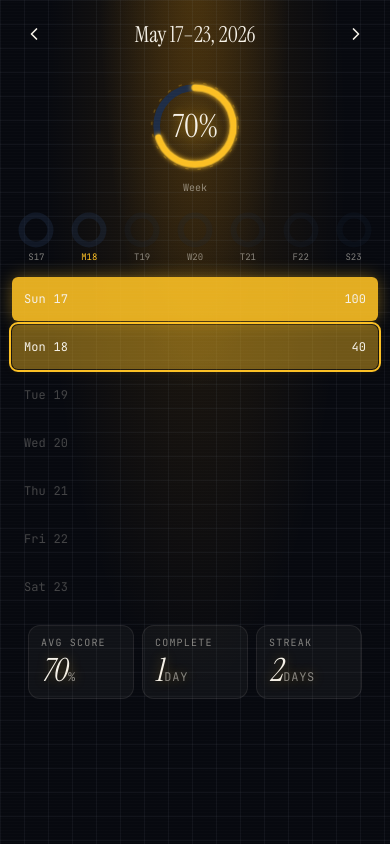
Test: C-m9d-002: WeekView — prev/next week nav updates layout and label › clicking Previous week changes label to 'May 10–16, 2026'
Click the button named "Previous week": (34, 34) [12,12,56,56]
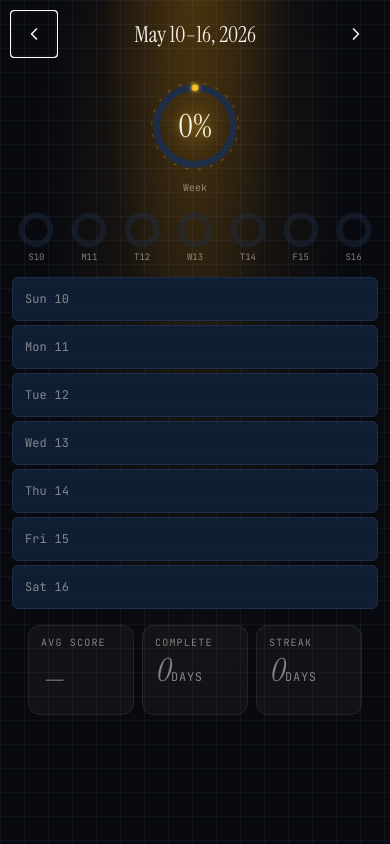
expect the heading "May 10–16, 2026" is shown: met, box [134,18,256,50]
expect the text "10" is shown: met, box [55,290,69,308]
expect the text "11" is shown: met, box [55,338,69,356]
